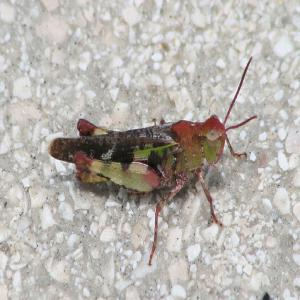locust: (37, 85, 255, 239)
